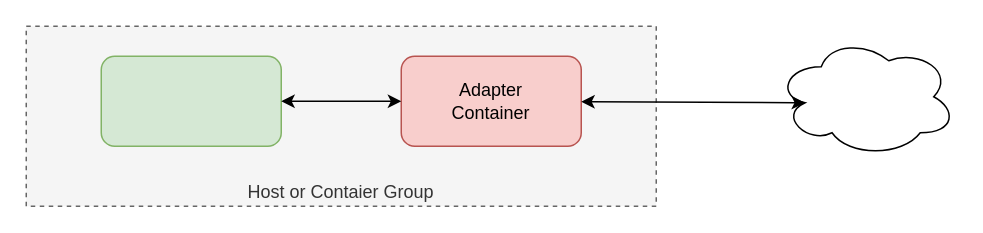
Image size: 983x233. Some labels were removed from this diagram. The shapes that lost their labels are listed below. From the top down, each one's centre as x and y in pixels, then its label:
point 190,100: Application Container
point 865,96: rest of the world
